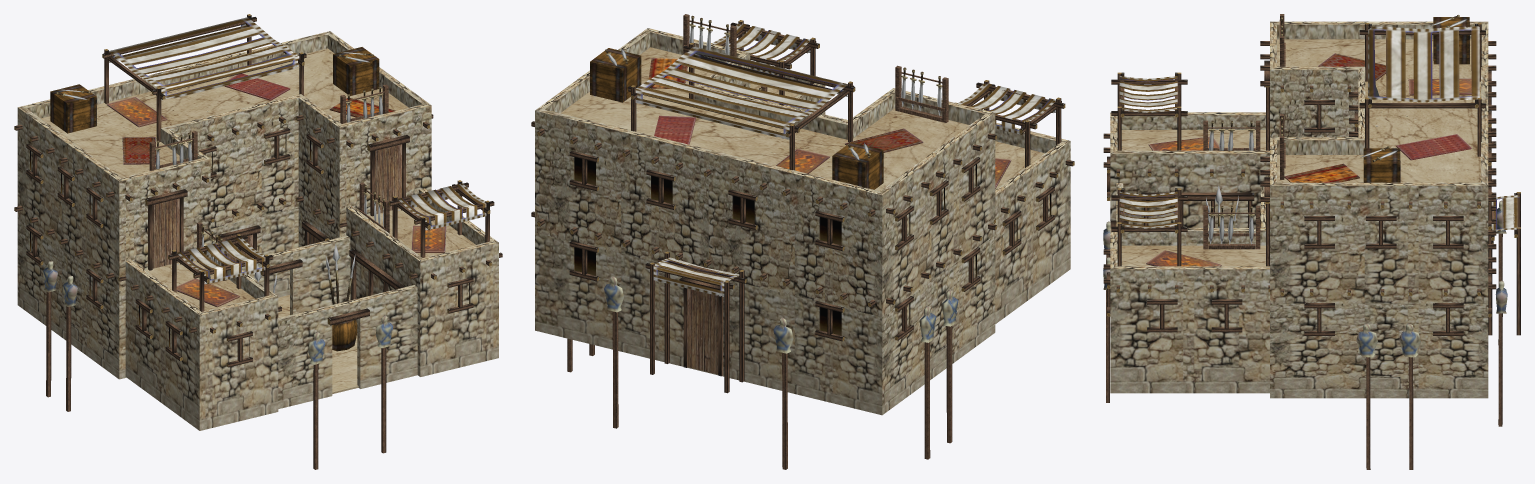
Rendered from barracks.dae.
The picture shows the model from 3 angles, left to right: view 1: azimuth 30°, elevation 25°; view 2: azimuth 150°, elevation 25°; view 3: azimuth 270°, elevation 25°; orthographic projection. The views are drawn at different scales.
Visible parts, largest first — view 1: barracks; view 2: barracks; view 3: barracks.
Boxes of the visible parts, x1,y1,x2,y2 form: barracks: (14, 14, 502, 469); barracks: (531, 14, 1074, 469); barracks: (1103, 14, 1520, 469).
Size of the model in its own units: 6.28 by 6.38 by 5.46.
